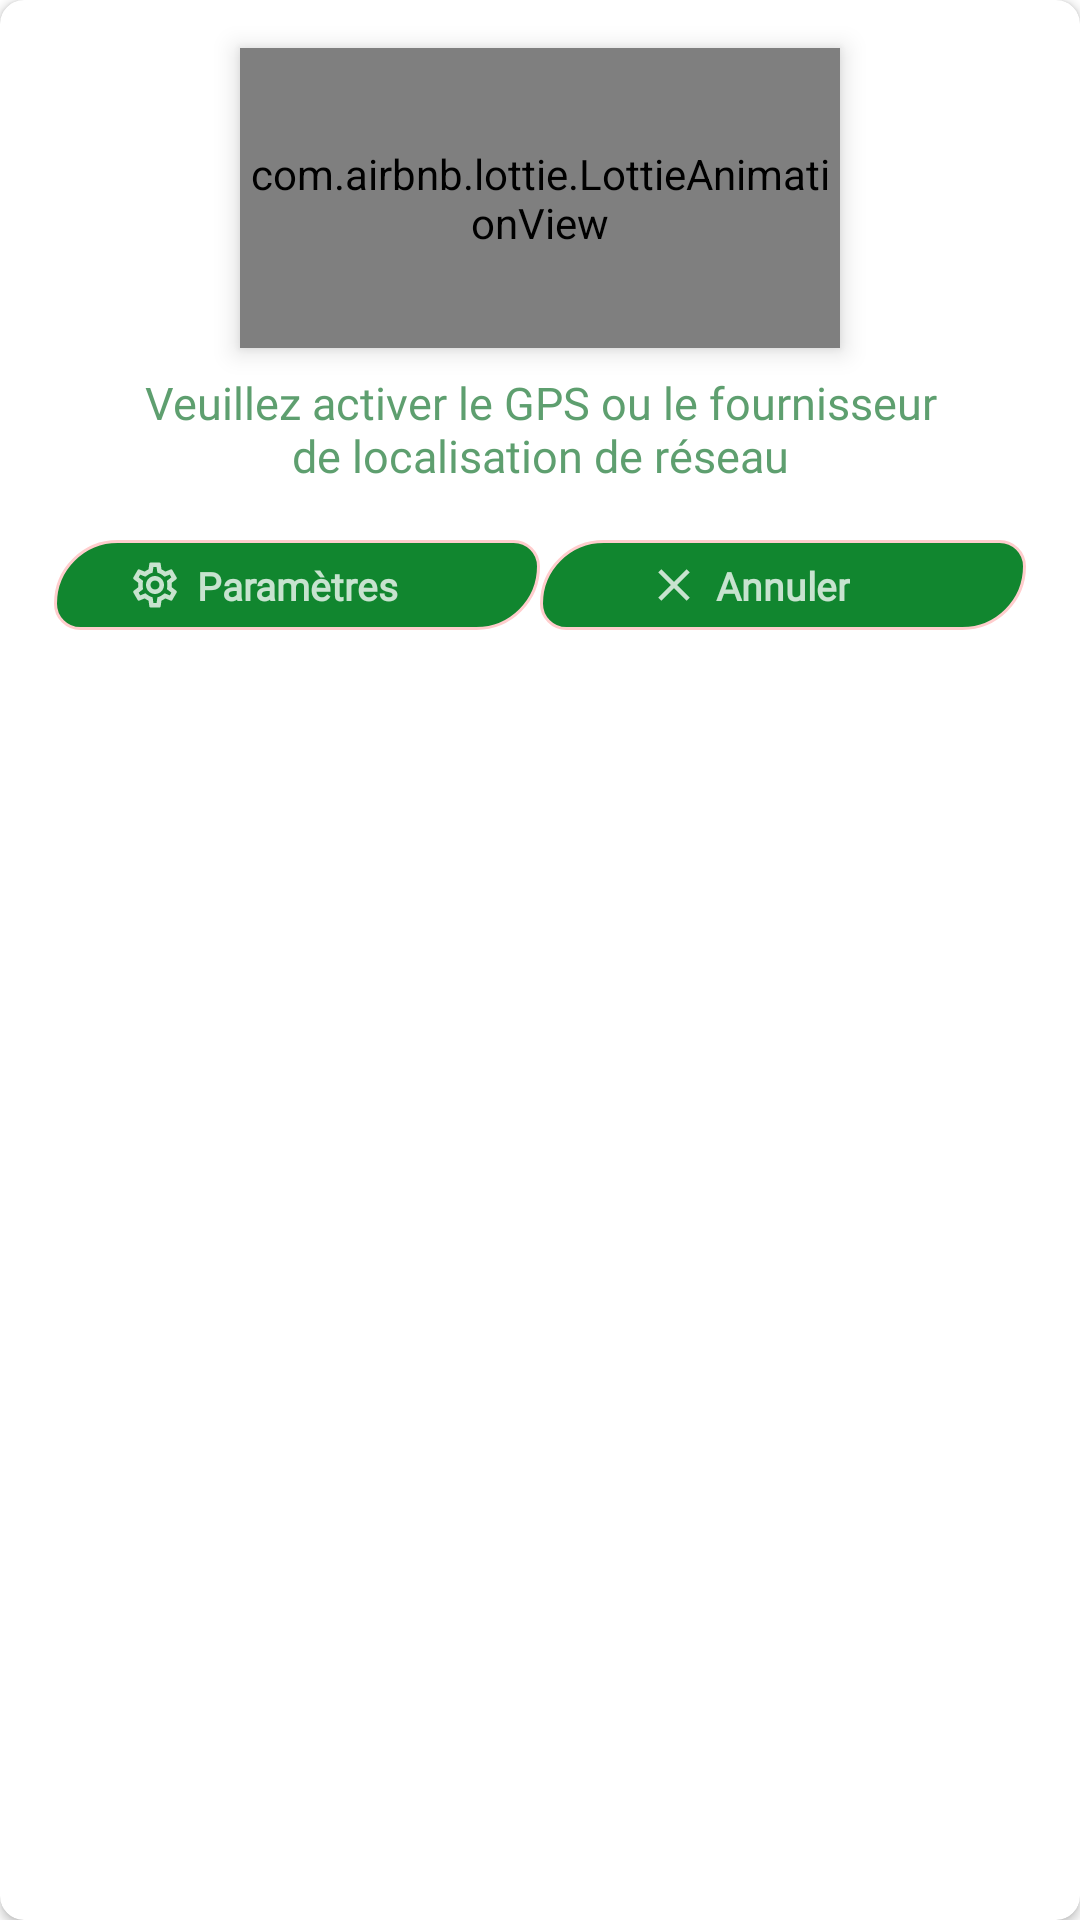

Where to tap for icons on this 1080 x 1920 app screen, as (x=x, y=y):
close: (x=674, y=585)
settings item: (x=155, y=585)
